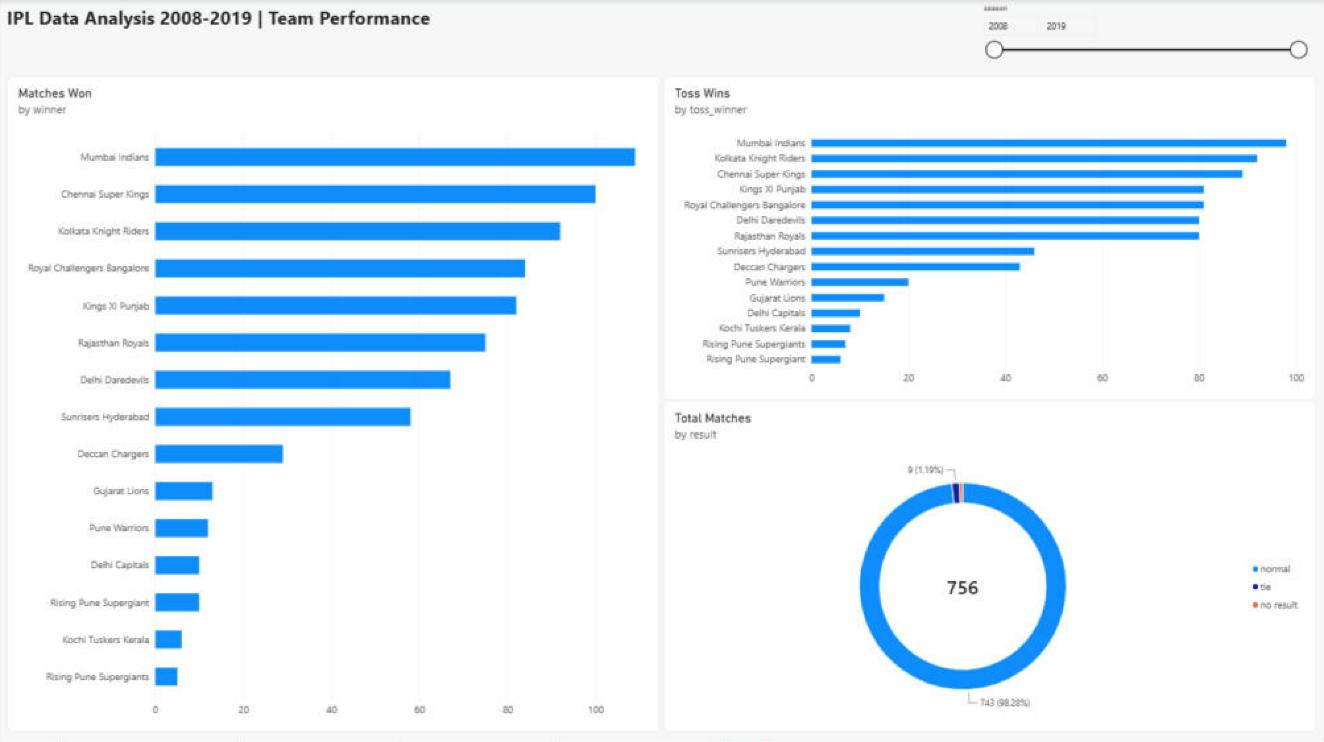

Layout of this report page (visuals, bound fields, positions):
{"tool":"powerbi","page":{"name":"Team Performance","canvas":[1920,1080],"ordinal":1},"visuals":[{"type":"textbox","box":[15,8,820,60],"z":3000},{"type":"slicer","fields":{"Values":["matches.season"]},"box":[1420,5,480,95],"z":4000},{"type":"clusteredBarChart","fields":{"Category":["matches.winner"],"Y":["matches.Matches Won"]},"box":[15,110,945,950],"z":4001},{"type":"clusteredBarChart","fields":{"Category":["matches.toss_winner"],"Y":["matches.Toss Wins"]},"box":[965,110,945,470],"z":4002},{"type":"donutChart","fields":{"Category":["matches.result"],"Y":["matches.Total Matches"]},"box":[965,580,945,480],"z":4003}]}

Visuals, with their boxes in screenshot pixels (x1, y1, x2, y2), scaled from the page's 1920x1080 canvas onto the 1324x742 screenshot:
textbox: l=10, t=5, r=576, b=47
slicer - matches.season: l=979, t=3, r=1310, b=69
clusteredBarChart - matches.winner x matches.Matches Won: l=10, t=76, r=662, b=728
clusteredBarChart - matches.toss_winner x matches.Toss Wins: l=665, t=76, r=1317, b=398
donutChart - matches.result x matches.Total Matches: l=665, t=398, r=1317, b=728
